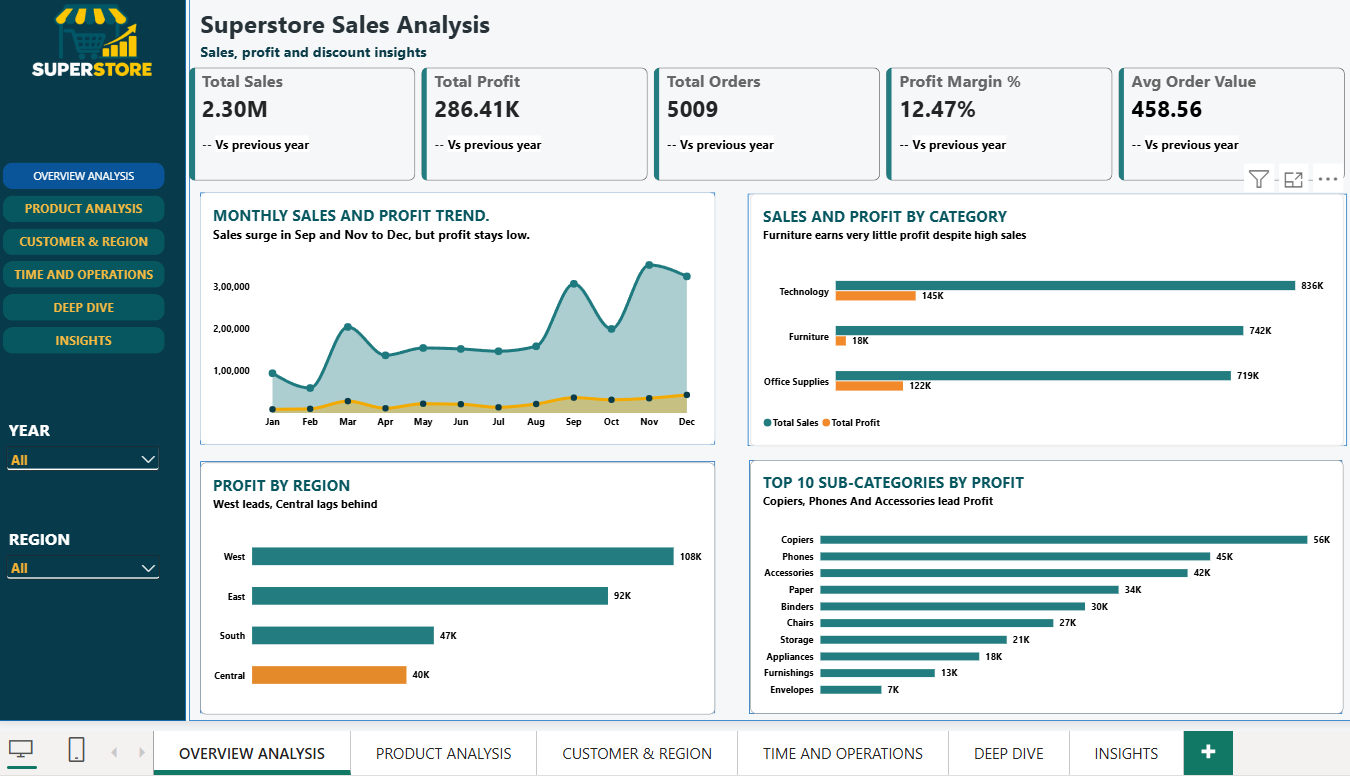

The page's visual inventory and layout, read from the dashboard file:
{"tool":"powerbi","page":{"name":"OVERVIEW ANALYSIS","canvas":[1800,950],"ordinal":0},"visuals":[{"type":"shape","box":[0,0,250.9,949.4],"z":0},{"type":"shape","box":[254.7,0,1545.7,949.4],"z":1000},{"type":"textbox","box":[270.2,15.4,459.3,44.4],"z":2000},{"type":"textbox","box":[270.2,59.8,534.5,34.7],"z":3000},{"type":"cardVisual","fields":{"Data":["_MEASURES.Total Sales","_MEASURES.Total Profit","_MEASURES.Total Orders","_MEASURES.Profit Margin %","_MEASURES.Avg Order Value"]},"box":[254.7,94.6,1516.7,148.6],"z":4000},{"type":"shape","box":[270.2,258.6,673.5,330],"z":7000},{"type":"lineChart","title":"MONTHLY SALES AND PROFIT TREND.   ","fields":{"Category":["Calender.month"],"Y":["_MEASURES.Total Sales","_MEASURES.Total Profit"]},"box":[270.2,258.6,673.5,330],"z":8000},{"type":"shape","box":[986,260,784,330],"z":9000},{"type":"clusteredBarChart","title":"SALES AND PROFIT BY CATEGORY","fields":{"Category":["superstore.Category"],"Y":["_MEASURES.Total Sales","_MEASURES.Total Profit"]},"box":[989.9,260.5,776,330],"z":10000},{"type":"shape","box":[270.2,609.8,673.5,330],"z":11000},{"type":"clusteredBarChart","title":"PROFIT BY REGION","fields":{"Category":["superstore.Region"],"Y":["_MEASURES.Total Profit"]},"box":[270.2,611.7,673.5,330],"z":12000},{"type":"shape","box":[988,608,776,332],"z":13000},{"type":"clusteredBarChart","title":"TOP 10 SUB-CATEGORIES BY PROFIT","fields":{"Category":["superstore.Sub-Category"],"Y":["_MEASURES.Total Profit"]},"box":[990,608,776,332],"z":14000},{"type":"slicer","fields":{"Values":["Calender.year"]},"box":[10.8,554.7,210,88],"z":14001},{"type":"slicer","fields":{"Values":["superstore.Region"]},"box":[10.8,696.7,210.3,79.1],"z":14002},{"type":"pageNavigator","box":[10.8,219.2,212.3,252.8],"z":14003},{"type":"image","box":[1.9,0,250.9,119.6],"z":14004}]}

Visuals, with their boxes on the page's 1800x950 design canvas (x1, y1, x2, y2). These are canvas units, not pixel positions in the 1350x776 screenshot, which may show the page scaled, cropped or inside an application window:
shape: locate(0, 0, 251, 949)
shape: locate(255, 0, 1800, 949)
textbox: locate(270, 15, 730, 60)
textbox: locate(270, 60, 805, 94)
cardVisual - _MEASURES.Total Sales x _MEASURES.Total Profit: locate(255, 95, 1771, 243)
shape: locate(270, 259, 944, 589)
"MONTHLY SALES AND PROFIT TREND.   " lineChart: locate(270, 259, 944, 589)
shape: locate(986, 260, 1770, 590)
"SALES AND PROFIT BY CATEGORY" clusteredBarChart: locate(990, 260, 1766, 590)
shape: locate(270, 610, 944, 940)
"PROFIT BY REGION" clusteredBarChart: locate(270, 612, 944, 942)
shape: locate(988, 608, 1764, 940)
"TOP 10 SUB-CATEGORIES BY PROFIT" clusteredBarChart: locate(990, 608, 1766, 940)
slicer - Calender.year: locate(11, 555, 221, 643)
slicer - superstore.Region: locate(11, 697, 221, 776)
pageNavigator: locate(11, 219, 223, 472)
image: locate(2, 0, 253, 120)
